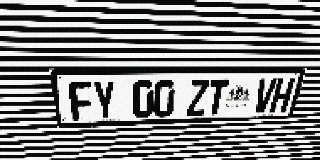0: (132, 80, 154, 118), (153, 80, 175, 117)
F: (68, 81, 94, 120)
H: (269, 78, 295, 113)
T: (205, 79, 230, 115)
V: (252, 79, 277, 113)
Y: (92, 81, 116, 120)
Z: (186, 79, 210, 116)
